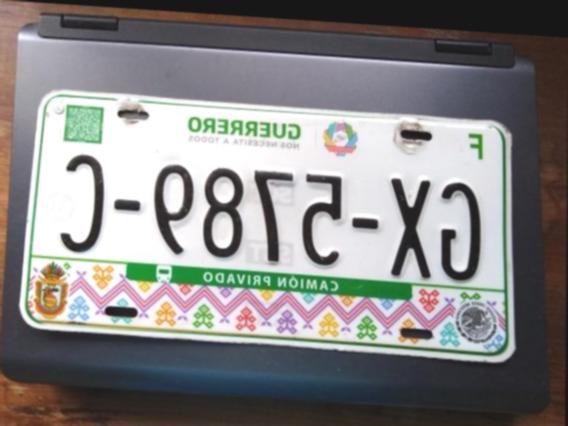License_Plate: (17, 80, 520, 375)
